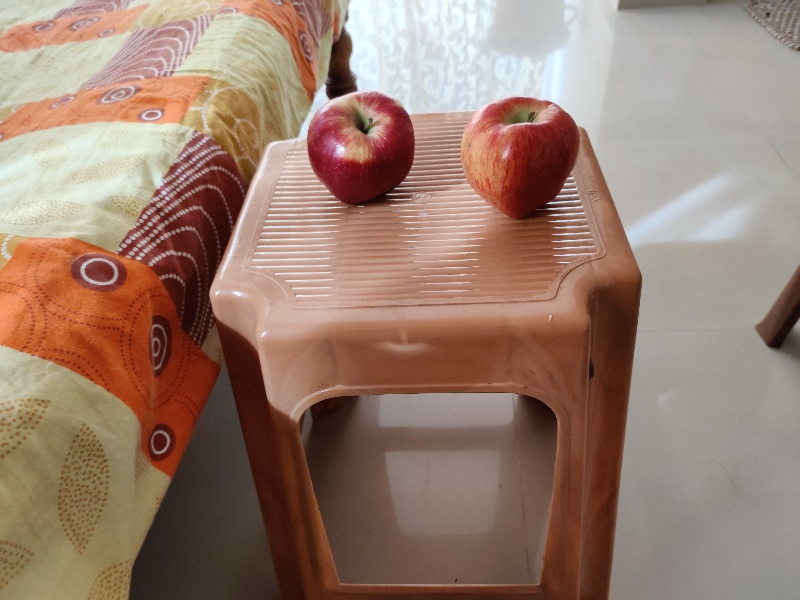apple: (455, 85, 581, 218), (305, 85, 421, 201)
